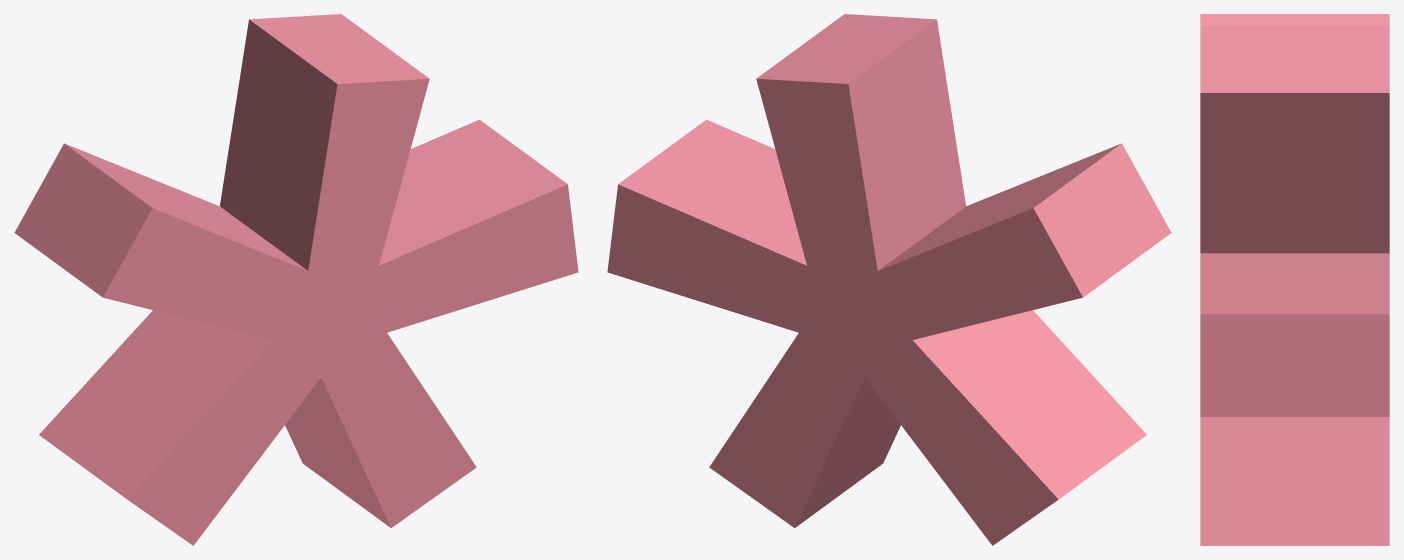
The model's file is pollen-dream-star.glb.
The picture shows the model from 3 angles, left to right: view 1: azimuth 30°, elevation 25°; view 2: azimuth 150°, elevation 25°; view 3: azimuth 270°, elevation 25°; orthographic projection. The views are drawn at different scales.
Bounding box in the file's own units: 0.1428 × 0.1312 × 0.046.
